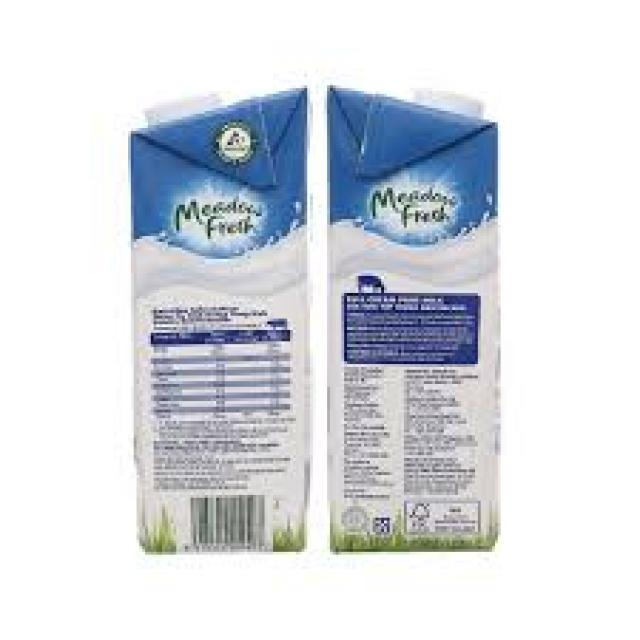non_white_jug: (98, 58, 314, 562), (317, 78, 505, 562)
